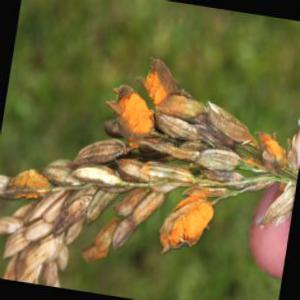False Smut: (159, 196, 214, 253), (115, 88, 149, 140), (9, 177, 51, 205), (145, 65, 169, 102), (261, 130, 283, 165)
